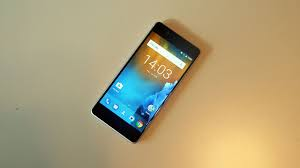nokia: (90, 21, 214, 145)
